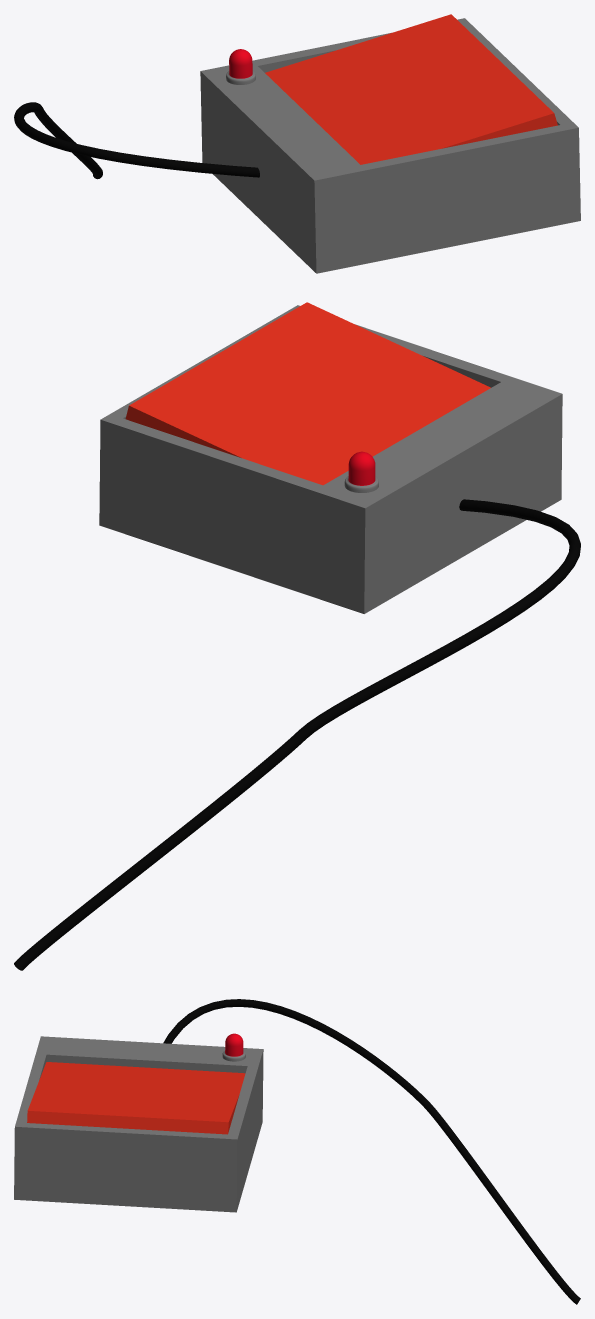
The model's file is interrupteur.fbx.
3 views of the same model, one above another, from view 1: azimuth 30°, elevation 25°; view 2: azimuth 150°, elevation 25°; view 3: azimuth 270°, elevation 25° (orthographic). The views are drawn at different scales.
Visible parts, largest first — view 1: interrupteur, interrupteur_button, cable, led_interrupteur; view 2: interrupteur, interrupteur_button, cable, led_interrupteur; view 3: interrupteur, interrupteur_button, cable, led_interrupteur.
Part boxes in pixels (x1,y1,x2,y2): interrupteur: [200, 18, 580, 273]; interrupteur_button: [265, 14, 557, 164]; cable: [14, 102, 259, 179]; led_interrupteur: [226, 49, 255, 84]; interrupteur: [99, 305, 562, 613]; interrupteur_button: [125, 302, 490, 485]; cable: [14, 499, 580, 970]; led_interrupteur: [344, 451, 378, 492]; interrupteur: [14, 1036, 263, 1212]; interrupteur_button: [27, 1062, 245, 1134]; cable: [163, 999, 580, 1304]; led_interrupteur: [222, 1033, 245, 1061].
Bounding box in the file's own units: 56.44 × 39.9 × 85.24.
